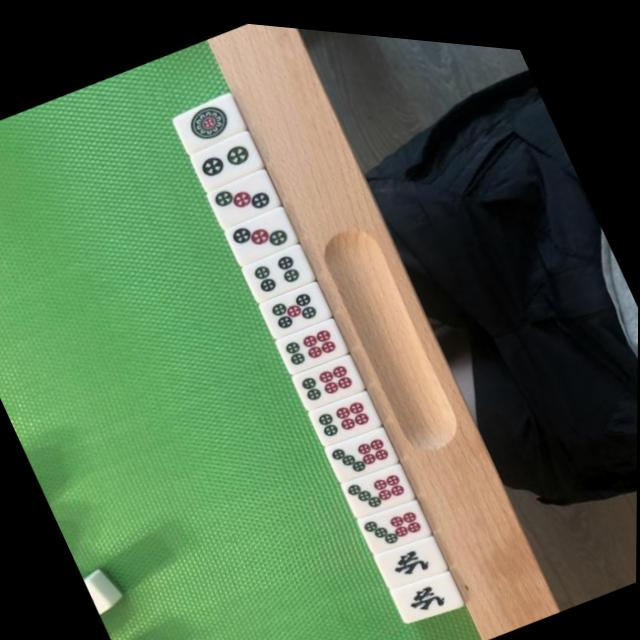hwn: (379, 528, 438, 581), (396, 565, 454, 615)
sd1: (175, 89, 242, 149)
sd2: (191, 128, 258, 187)
sd3: (208, 163, 275, 224), (225, 201, 292, 261)
sd4: (242, 238, 308, 297)
sd5: (260, 275, 325, 334)
sd6: (276, 310, 344, 370), (293, 347, 359, 404), (310, 383, 375, 440)
sd7: (341, 452, 410, 513), (360, 488, 427, 548), (326, 418, 392, 477)
